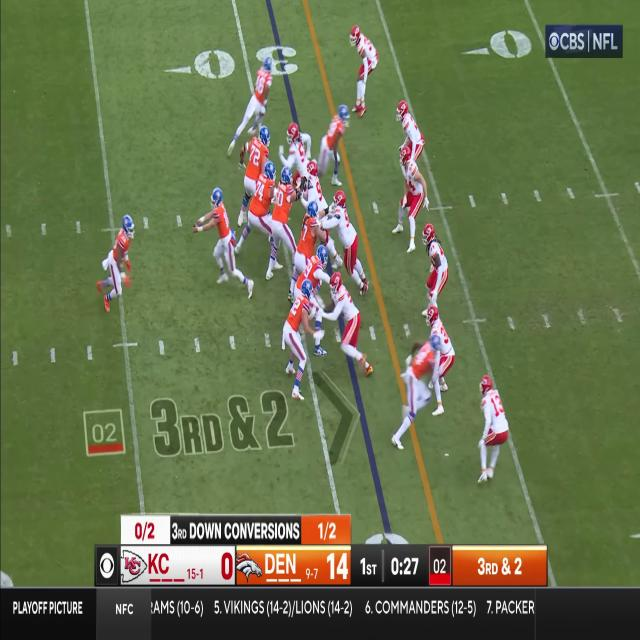Player: (392, 336, 442, 453), (393, 146, 429, 252), (206, 183, 242, 286), (282, 281, 313, 400), (479, 374, 509, 486), (427, 306, 455, 416), (349, 24, 380, 116), (270, 168, 297, 273), (315, 104, 350, 183), (330, 274, 360, 365), (423, 224, 448, 313), (334, 188, 360, 273), (248, 161, 273, 233), (240, 126, 268, 190), (293, 202, 320, 265), (246, 58, 272, 122), (304, 160, 330, 216), (295, 244, 328, 288), (396, 98, 422, 146), (284, 122, 308, 172)
Referee: (100, 214, 135, 313)
